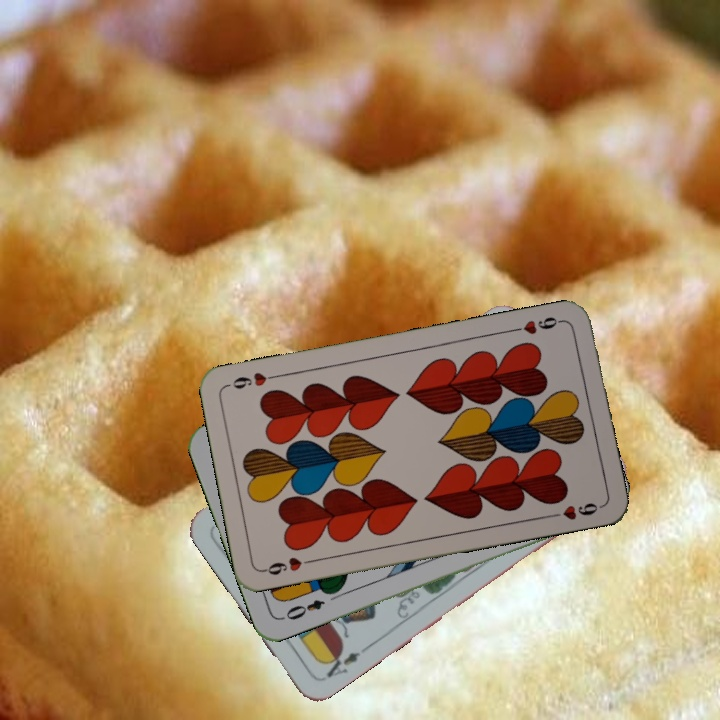EA: (319, 643, 370, 681)
EO: (277, 595, 327, 623)
H9: (508, 312, 567, 337), (259, 553, 317, 578)
